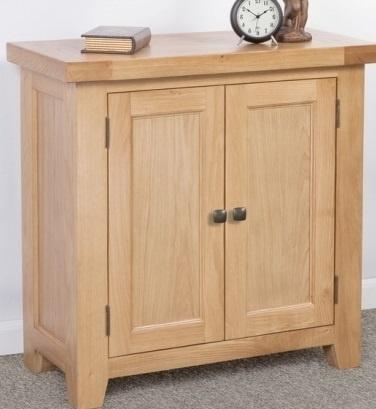cabinet_door: (110, 91, 226, 348), (225, 89, 334, 339)
handle: (211, 207, 228, 228), (232, 203, 247, 226)
